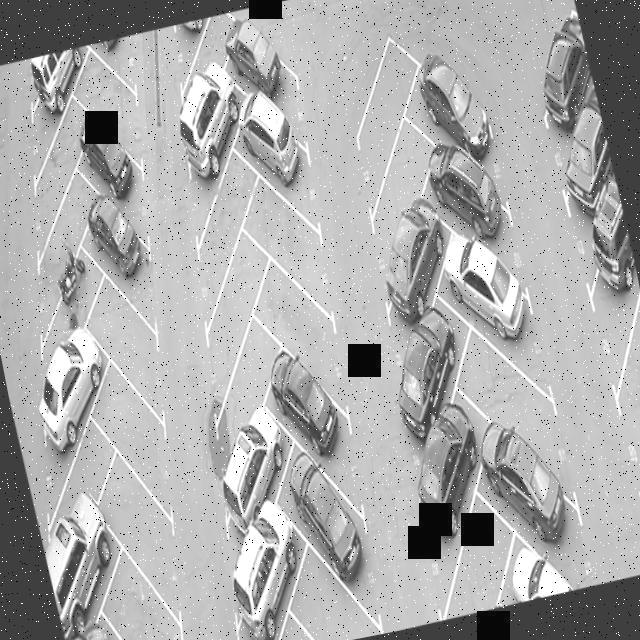car: (476, 414, 592, 578), (280, 418, 375, 604), (366, 304, 484, 449), (397, 401, 500, 564), (538, 73, 630, 255), (214, 485, 321, 640), (206, 394, 308, 555), (556, 167, 640, 355), (453, 233, 553, 388), (264, 327, 360, 488), (362, 200, 462, 350), (428, 133, 526, 273), (22, 320, 120, 456), (36, 499, 130, 640), (518, 2, 606, 148), (80, 178, 168, 316), (68, 104, 164, 230), (29, 232, 120, 361), (168, 72, 255, 202), (236, 81, 320, 210), (408, 53, 498, 171), (221, 0, 305, 91), (18, 47, 96, 132), (57, 600, 127, 640)
free: (463, 316, 577, 487), (195, 281, 308, 439), (11, 158, 118, 305), (338, 38, 440, 184), (578, 270, 640, 507), (88, 348, 183, 502), (253, 247, 349, 398), (94, 450, 190, 592), (88, 271, 178, 421), (190, 216, 286, 356), (176, 141, 272, 278), (356, 126, 454, 258), (420, 496, 524, 620), (283, 520, 384, 640), (31, 421, 124, 548), (17, 90, 107, 218), (250, 168, 328, 304), (100, 525, 190, 640), (65, 40, 154, 151), (168, 11, 249, 95), (620, 394, 640, 571)
